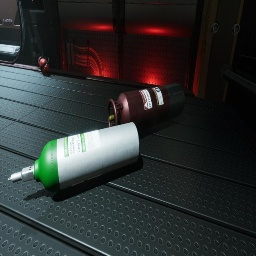0: (8, 122, 140, 192)
FireExtinguisher ]: (38, 56, 50, 75)
NitrogenTank ,: (107, 83, 185, 132)
